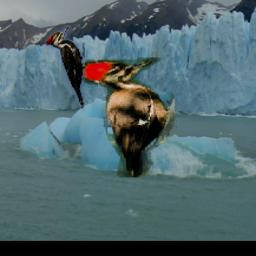Woodpecker: (80, 58, 177, 178), (45, 26, 85, 114)
